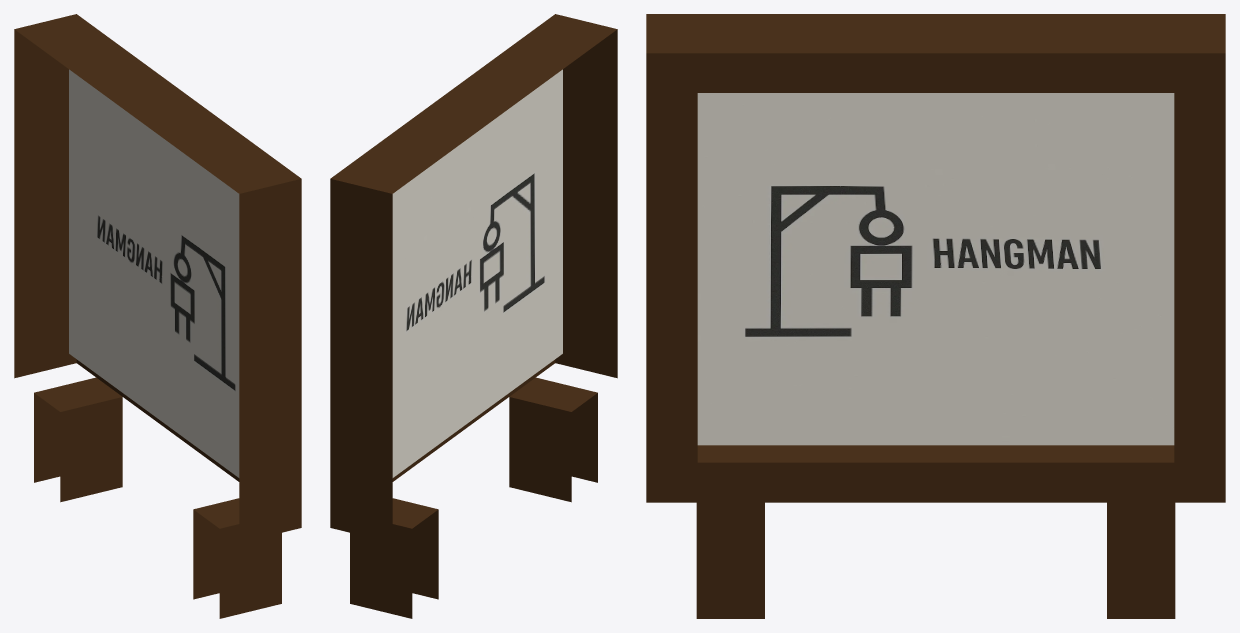
Rendered from HangmanPoster.glb.
3 views of the same model, side by side, from view 1: azimuth 30°, elevation 25°; view 2: azimuth 150°, elevation 25°; view 3: azimuth 270°, elevation 25° (orthographic). The views are drawn at different scales.
Visible parts, largest first — view 1: Poster_hangman; view 2: Poster_hangman; view 3: Poster_hangman.
Boxes of the visible parts, x1,y1,x2,y2 form: Poster_hangman: (14,14,301,618); Poster_hangman: (330,14,617,618); Poster_hangman: (646,14,1225,618).
Size of the model in its own units: 2.06 by 13.88 by 12.89.
2 materials, 1 textured.
